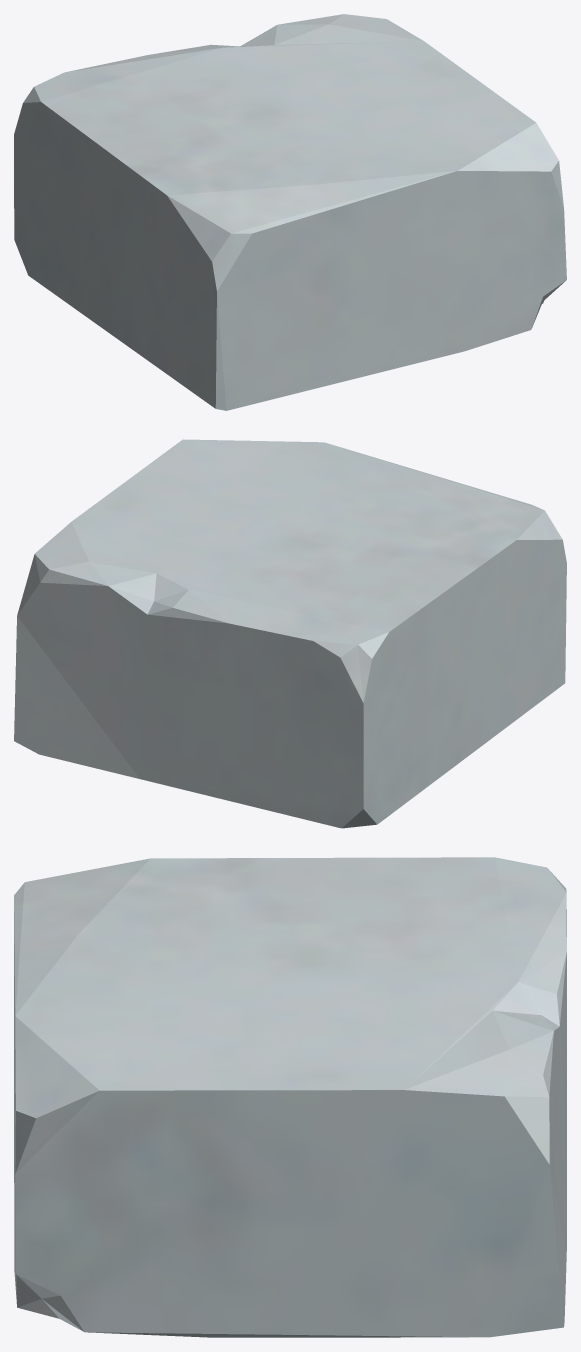
Rendered from P_RockCubic_Metric_2x2x1.obj.
3 views of the same model, one above another, from view 1: azimuth 30°, elevation 25°; view 2: azimuth 150°, elevation 25°; view 3: azimuth 270°, elevation 25° (orthographic). The views are drawn at different scales.
Size of the model in its own units: 3.99 by 1.99 by 3.97.
